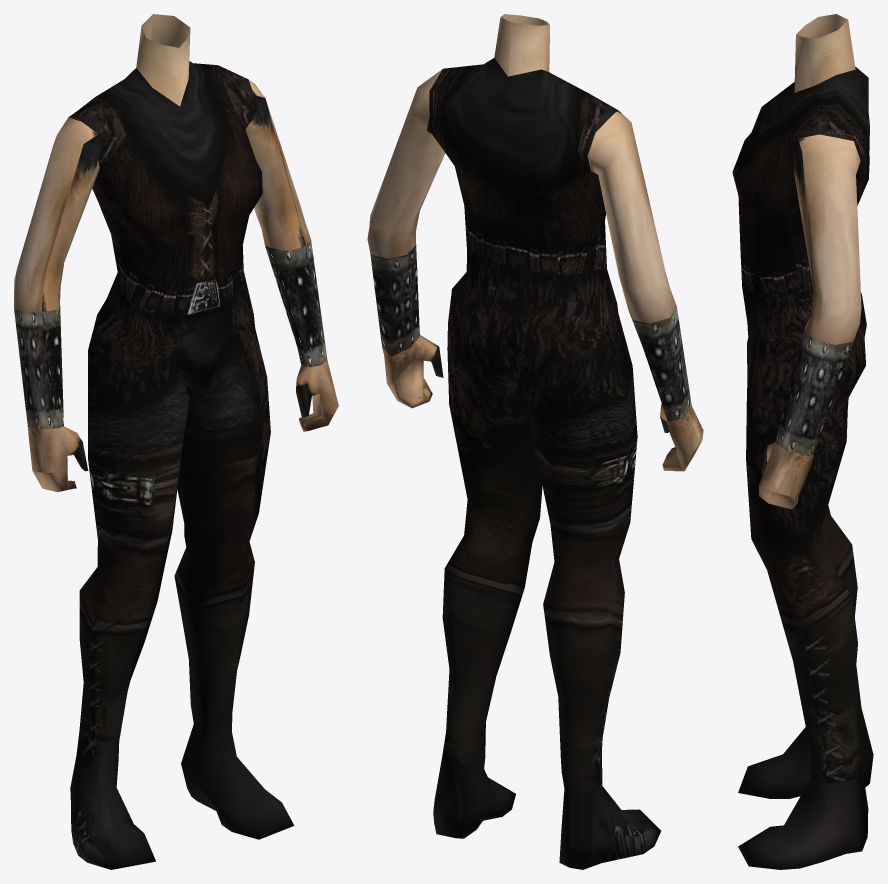
Rendered from ARMOR_BAB_BDTL_BLK_L.glb.
The picture shows the model from 3 angles, left to right: view 1: azimuth 30°, elevation 25°; view 2: azimuth 150°, elevation 25°; view 3: azimuth 270°, elevation 25°; orthographic projection. The views are drawn at different scales.
Visible parts, largest first — view 1: ARMOR_BAB_BDTL_BLK_L; view 2: ARMOR_BAB_BDTL_BLK_L; view 3: ARMOR_BAB_BDTL_BLK_L.
Part boxes in pixels (bbox=[...]): ARMOR_BAB_BDTL_BLK_L: bbox=[14, 14, 338, 869]; ARMOR_BAB_BDTL_BLK_L: bbox=[367, 14, 703, 869]; ARMOR_BAB_BDTL_BLK_L: bbox=[732, 14, 873, 869].
Bounding box in the file's own units: 0.6425 × 1.67 × 0.2657.
Materials: 3 (3 with a texture image).
